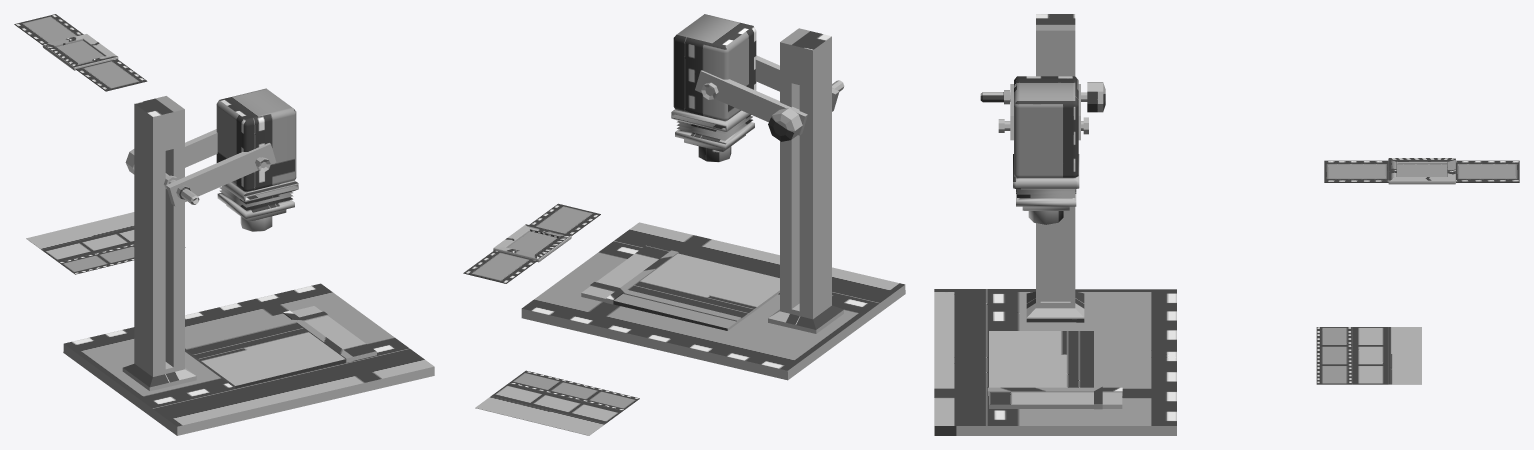
File: Enlarger.fbx
The picture shows the model from 3 angles, left to right: view 1: azimuth 30°, elevation 25°; view 2: azimuth 150°, elevation 25°; view 3: azimuth 270°, elevation 25°; orthographic projection. The views are drawn at different scales.
Visible parts, largest first — view 1: Enlarger_body, Enlarger_head, Enlarger_photo, Enlarger_Film, Enlarger_carrier; view 2: Enlarger_body, Enlarger_head, Enlarger_photo, Enlarger_Film, Enlarger_carrier; view 3: Enlarger_body, Enlarger_head, Enlarger_photo, Enlarger_Film, Enlarger_carrier.
Part boxes in pixels (x1=…): Enlarger_body: x1=63, y1=96, x2=434, y2=435; Enlarger_head: x1=125, y1=88, x2=298, y2=231; Enlarger_photo: x1=26, y1=212, x2=185, y2=274; Enlarger_Film: x1=14, y1=14, x2=147, y2=91; Enlarger_carrier: x1=42, y1=34, x2=118, y2=70; Enlarger_body: x1=521, y1=28, x2=905, y2=380; Enlarger_head: x1=671, y1=14, x2=844, y2=162; Enlarger_photo: x1=475, y1=370, x2=639, y2=435; Enlarger_Film: x1=463, y1=203, x2=600, y2=283; Enlarger_carrier: x1=493, y1=224, x2=571, y2=262; Enlarger_body: x1=934, y1=14, x2=1176, y2=435; Enlarger_head: x1=980, y1=76, x2=1105, y2=224; Enlarger_photo: x1=1316, y1=327, x2=1421, y2=384; Enlarger_Film: x1=1324, y1=160, x2=1519, y2=182; Enlarger_carrier: x1=1388, y1=158, x2=1455, y2=184.
Size of the model in its own units: 255 by 267 by 472.
5 materials, 5 textured.
